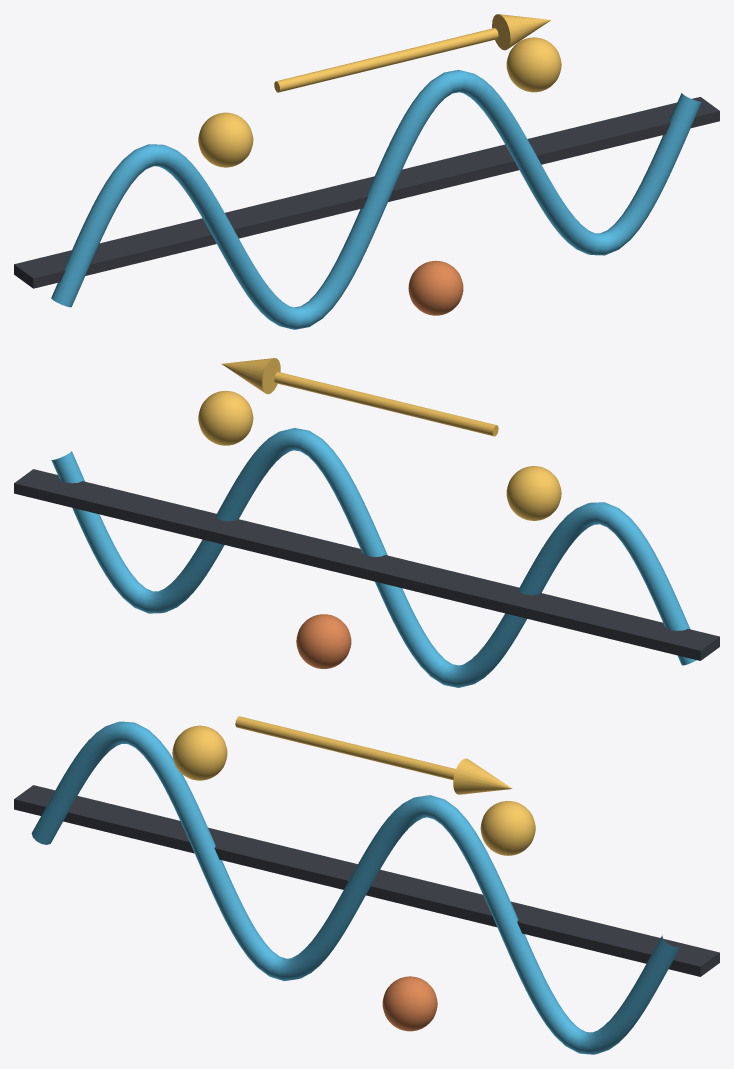
File: physics-waves-wavelength.glb
The picture shows the model from 3 angles, top to bottom: view 1: azimuth 30°, elevation 25°; view 2: azimuth 150°, elevation 25°; view 3: azimuth 330°, elevation 25°; orthographic projection.
Parts seen in each view (by area): view 1: wave-curve-energy-transfer, rest-line-reference, wavelength-span-crest-to-crest-shaft, next-crest-matching-point, crest-high-point, trough-low-point, wavelength-span-crest-to-crest-head; view 2: wave-curve-energy-transfer, rest-line-reference, wavelength-span-crest-to-crest-shaft, crest-high-point, trough-low-point, next-crest-matching-point, wavelength-span-crest-to-crest-head; view 3: wave-curve-energy-transfer, rest-line-reference, wavelength-span-crest-to-crest-shaft, crest-high-point, next-crest-matching-point, trough-low-point, wavelength-span-crest-to-crest-head.
Boxes of the visible parts, bbox=[...] form: wave-curve-energy-transfer: bbox=[51, 70, 701, 329]; rest-line-reference: bbox=[14, 97, 719, 288]; wavelength-span-crest-to-crest-shaft: bbox=[274, 28, 498, 92]; next-crest-matching-point: bbox=[506, 37, 561, 92]; crest-high-point: bbox=[198, 112, 253, 167]; trough-low-point: bbox=[408, 260, 463, 315]; wavelength-span-crest-to-crest-head: bbox=[492, 14, 550, 50]; wave-curve-energy-transfer: bbox=[51, 428, 696, 687]; rest-line-reference: bbox=[14, 469, 719, 660]; wavelength-span-crest-to-crest-shaft: bbox=[274, 372, 498, 436]; crest-high-point: bbox=[506, 466, 561, 520]; trough-low-point: bbox=[296, 614, 351, 668]; next-crest-matching-point: bbox=[198, 390, 253, 445]; wavelength-span-crest-to-crest-head: bbox=[222, 358, 280, 394]; wave-curve-energy-transfer: bbox=[31, 721, 680, 1054]; rest-line-reference: bbox=[14, 785, 719, 976]; wavelength-span-crest-to-crest-shaft: bbox=[235, 716, 455, 780]; crest-high-point: bbox=[172, 725, 227, 780]; next-crest-matching-point: bbox=[480, 801, 535, 855]; trough-low-point: bbox=[382, 976, 437, 1031]; wavelength-span-crest-to-crest-head: bbox=[453, 758, 512, 794].
Size of what is drawn, in the model's own units: 2.45 by 0.9826 by 0.2376.
